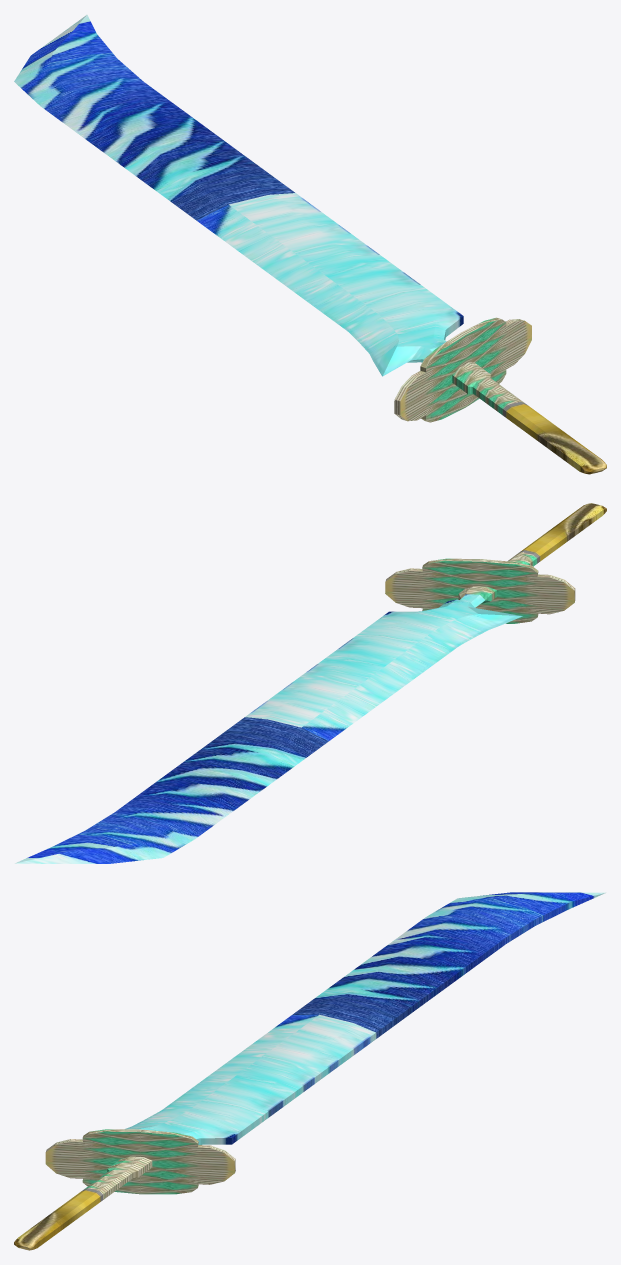
File: sword_ichimonji_kai_ichimonji_kai.glb
The picture shows the model from 3 angles, top to bottom: view 1: azimuth 30°, elevation 25°; view 2: azimuth 150°, elevation 25°; view 3: azimuth 330°, elevation 25°; orthographic projection. The views are drawn at different scales.
Size of the model in its own units: 0.2228 by 0.0863 by 1.28.
1 material, 1 textured.
